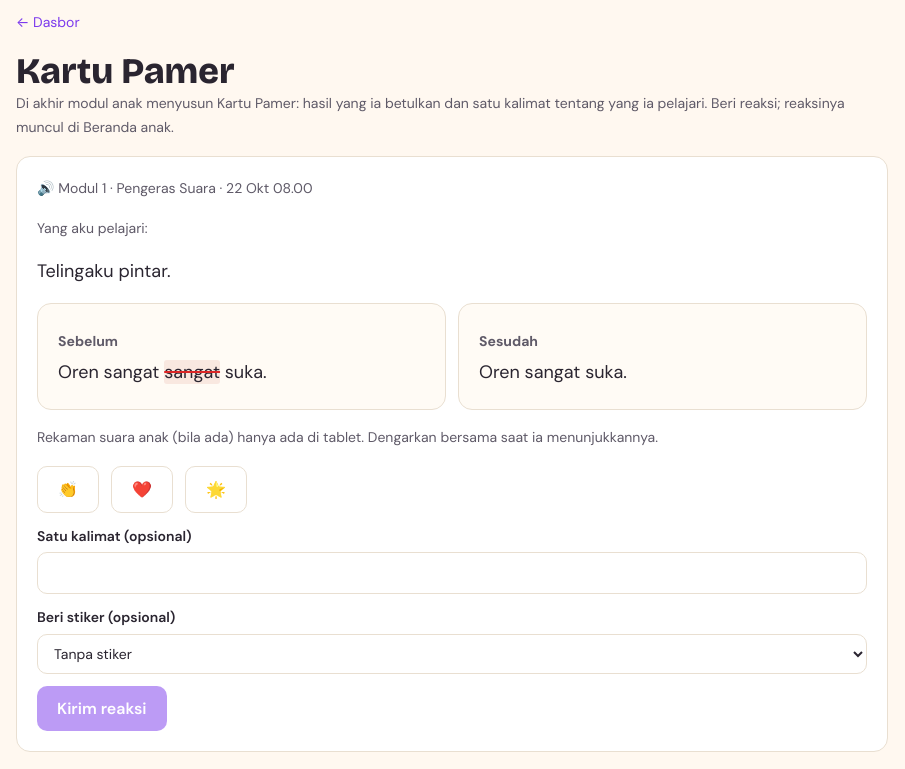
Test: Pojok Orang Tua: belajar mandiri › Kartu Pamer: reaksi emoji + satu kalimat, dan stiker lewat jalur stiker
The width and height of the screenshot is (905, 769).
Expected: the text "Telingaku pintar." is shown, x1=37 y1=259 x2=171 y2=283
Expected: the element showing "Sebelum Oren sangat sangat suka." is shown, x1=37 y1=303 x2=446 y2=410
Click the button "👏" at {"x": 68, "y": 489}, box x1=37 y1=466 x2=99 y2=512
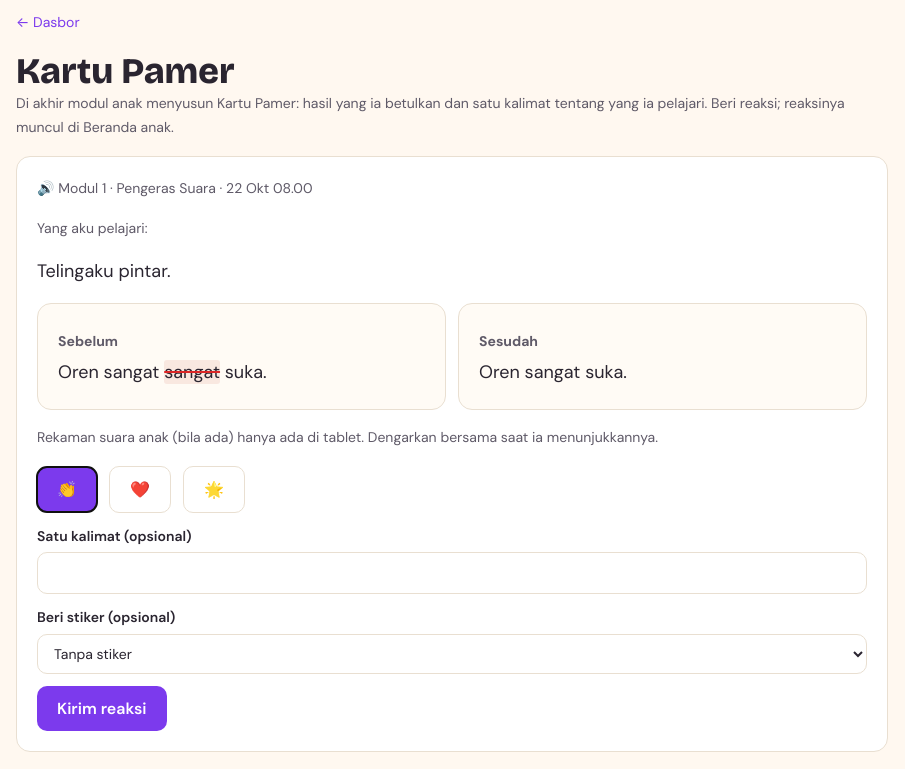
Type "Ayah bangga!" into the field labelled "Satu kalimat (opsional)" at {"x": 452, "y": 573}, box x1=37 y1=552 x2=867 y2=594
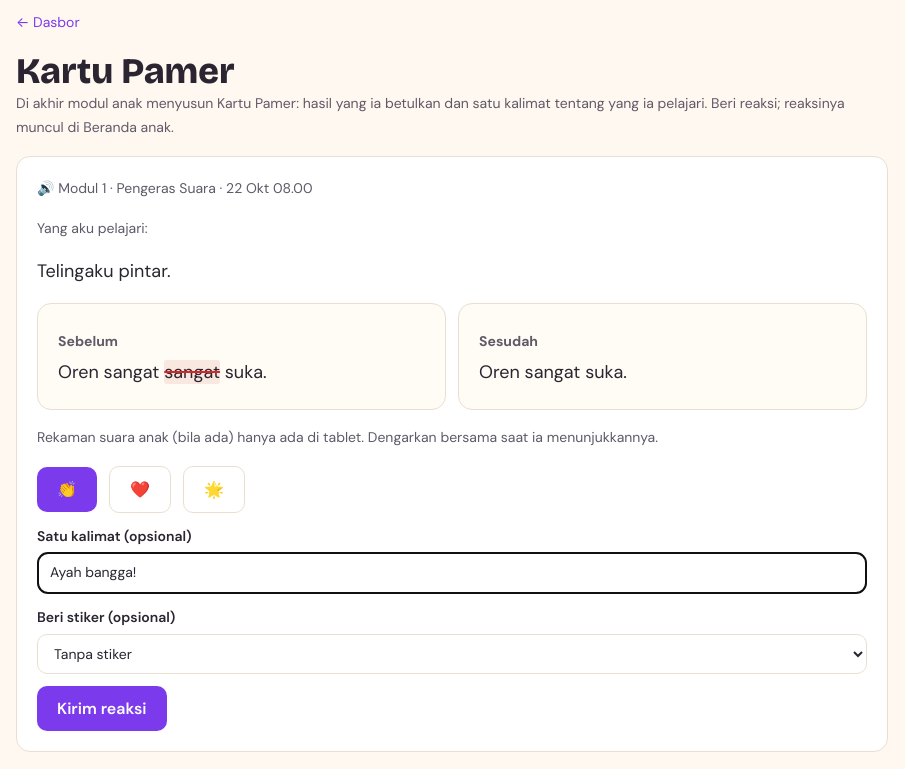
Select "Perak Pengeras Suara" in the dropdown labelled "Beri stiker (opsional)" at {"x": 452, "y": 654}, box x1=37 y1=634 x2=867 y2=674
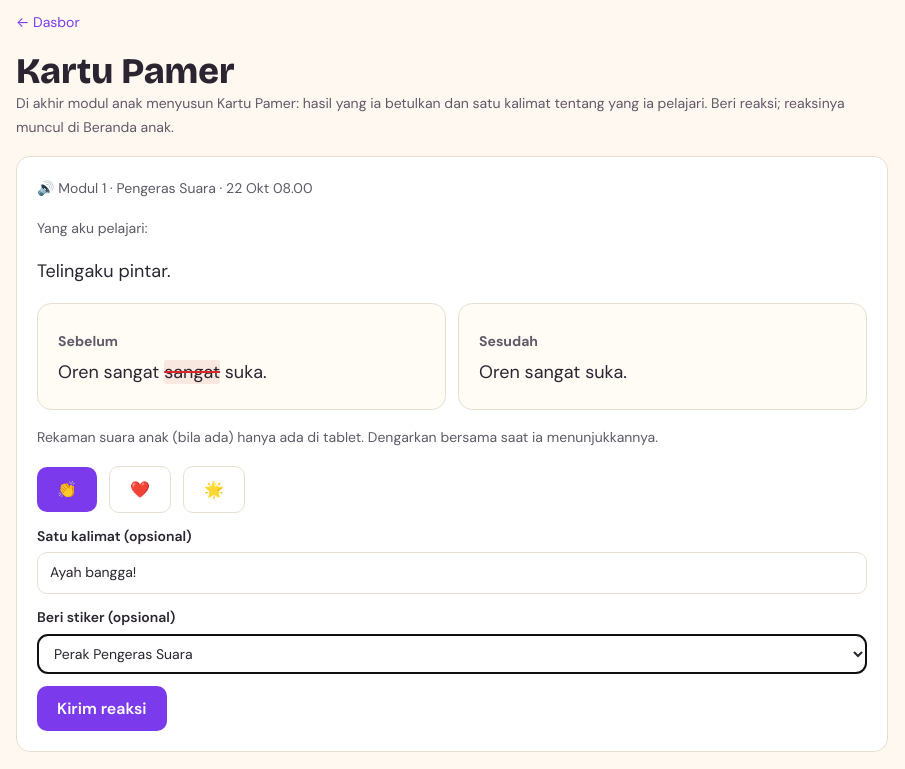
Click the button "Kirim reaksi" at {"x": 102, "y": 708}, box x1=37 y1=686 x2=167 y2=731
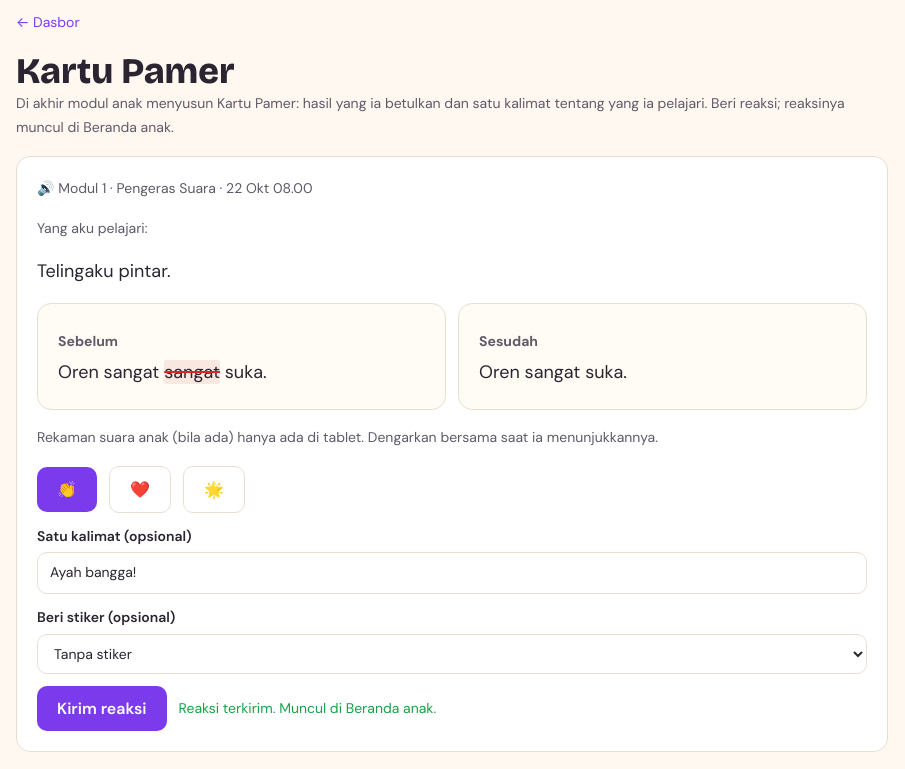
Expected: the text "Reaksi terkirim. Muncul di Beranda anak." is shown, x1=179 y1=696 x2=436 y2=720
